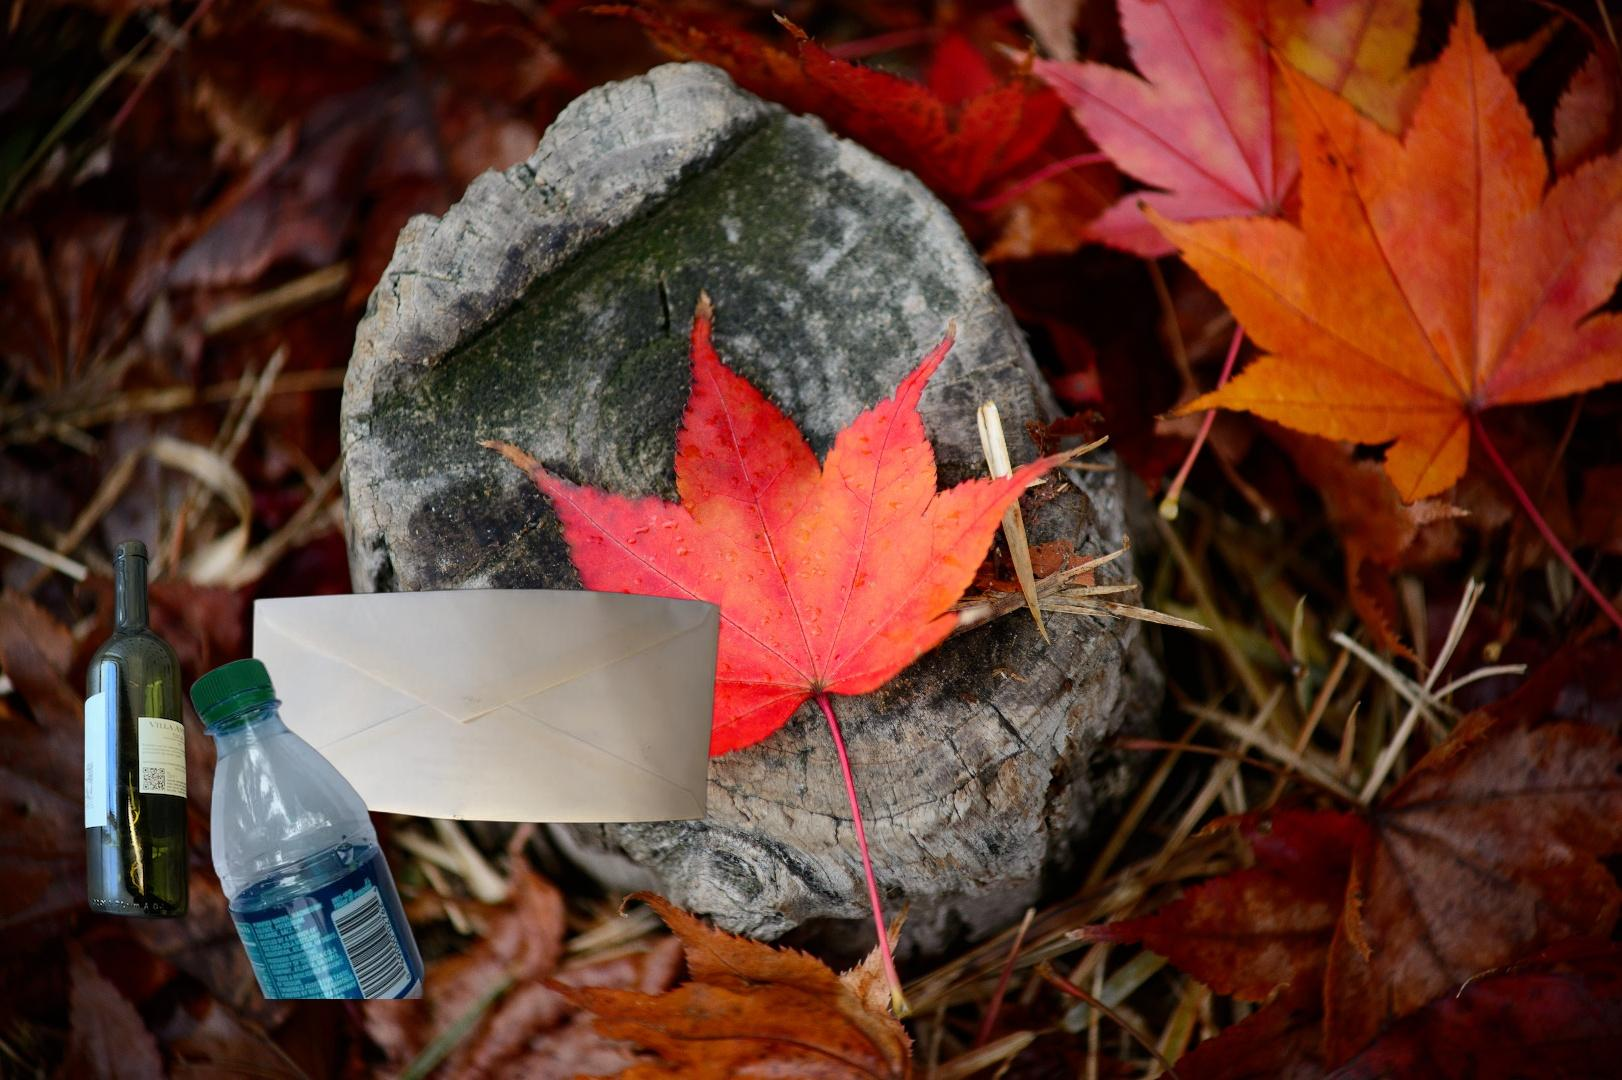glass: (80, 535, 193, 926)
paper: (243, 585, 722, 827)
plastic-bottles: (186, 655, 437, 999)
